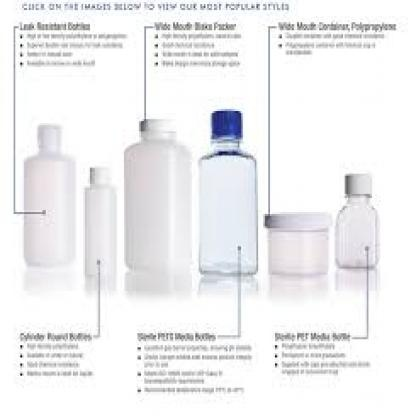trash: (124, 119, 190, 270), (199, 110, 256, 273), (24, 125, 74, 264), (265, 212, 329, 273), (336, 173, 377, 267), (85, 167, 115, 287)
